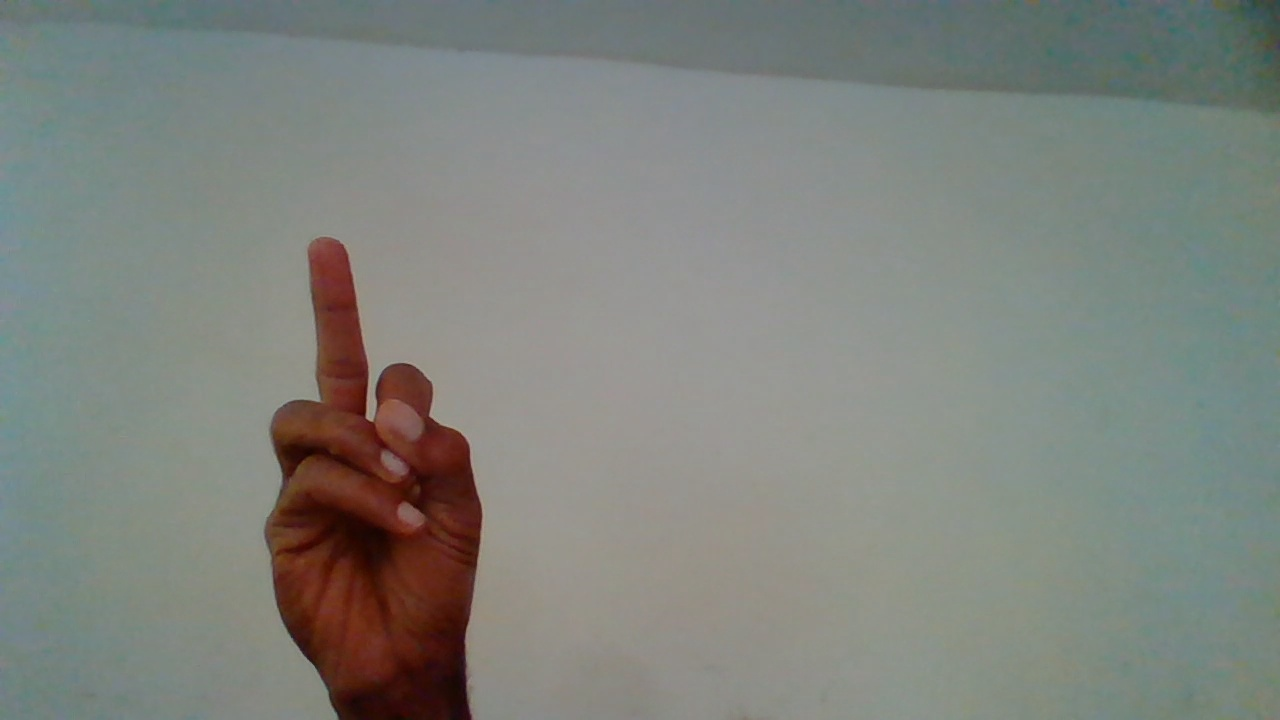he: (262, 239, 499, 713)
